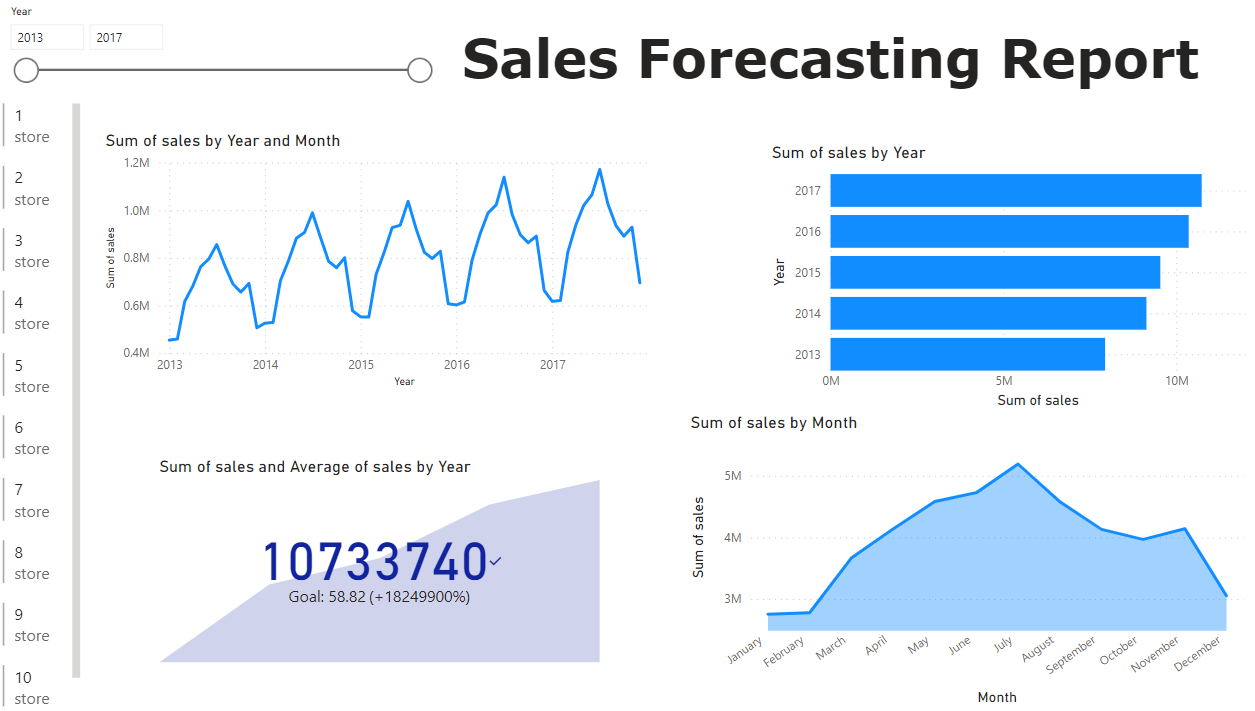

What the dashboard file says about the page in this screenshot:
{"tool":"powerbi","page":{"name":"Page 1","canvas":[1280,720],"ordinal":0},"visuals":[{"type":"barChart","fields":{"Category":["train.date.Variation.Date Hierarchy.Year"],"Y":["Sum(train.sales)"]},"box":[778,144,502,274],"z":0},{"type":"areaChart","fields":{"Category":["train.date.Variation.Date Hierarchy.Month"],"Y":["train.sales"]},"box":[696,418,570,302],"z":1000},{"type":"lineChart","fields":{"Category":["train.date.Variation.Date Hierarchy.Year","train.date.Variation.Date Hierarchy.Month"],"Y":["Sum(train.sales)"]},"box":[104,132,564,266],"z":2000},{"type":"kpi","fields":{"Indicator":["Sum(train.sales)"],"TrendLine":["train.date.Variation.Date Hierarchy.Year"],"Goal":["Avg(train.sales)"]},"box":[158,462,456,214],"z":3000},{"type":"slicer","fields":{"Values":["train.date.Variation.Date Hierarchy.Year"]},"box":[0,0,448,100],"z":4000},{"type":"multiRowCard","fields":{"Values":["train.store"]},"box":[0,100,88,620],"z":5000},{"type":"textbox","box":[452,20,782,80],"z":6000}]}

Visuals, with their boxes in screenshot pixels (x1, y1, x2, y2), scaled from the page's 1280x720 canvas onto the 1255x711 screenshot:
barChart - train.date.Variation.Date Hierarchy.Year x Sum(train.sales): 763 142 1254 413
areaChart - train.date.Variation.Date Hierarchy.Month x train.sales: 682 413 1241 710
lineChart - train.date.Variation.Date Hierarchy.Year x train.date.Variation.Date Hierarchy.Month: 102 130 655 393
kpi - Sum(train.sales) x train.date.Variation.Date Hierarchy.Year: 155 456 602 668
slicer - train.date.Variation.Date Hierarchy.Year: 0 0 439 99
multiRowCard - train.store: 0 99 86 710
textbox: 443 20 1210 99
